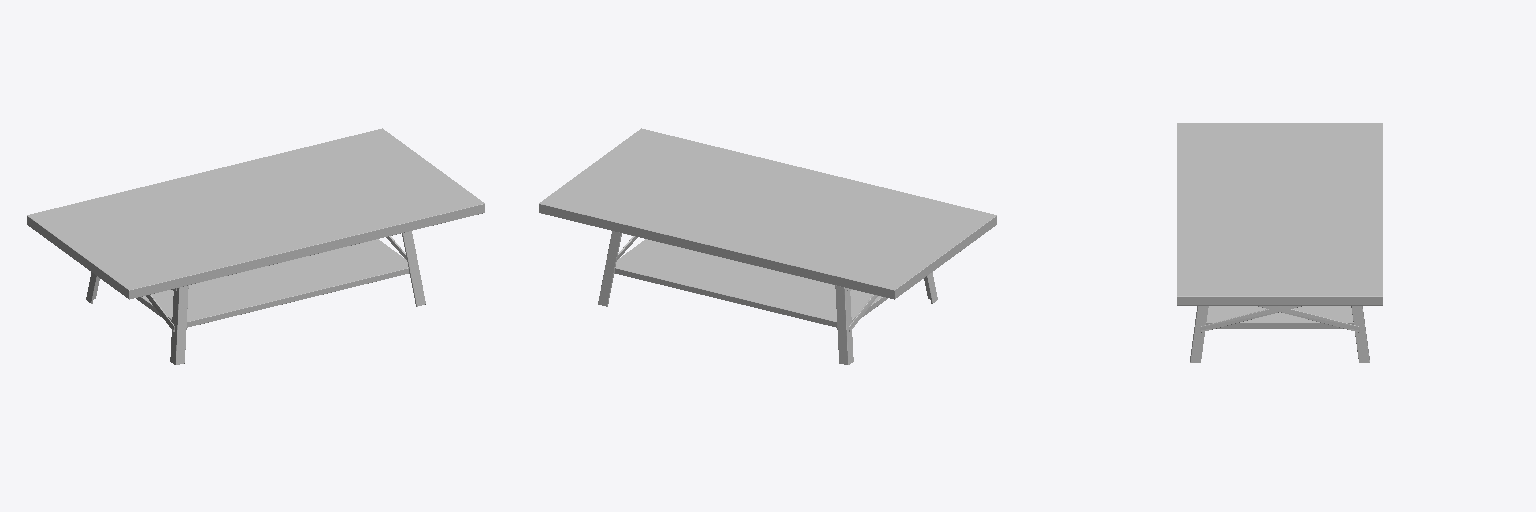
Rendered from CoffeeTable.obj.
The picture shows the model from 3 angles: view 1: azimuth 30°, elevation 25°; view 2: azimuth 150°, elevation 25°; view 3: azimuth 270°, elevation 25°; orthographic projection.
Visible parts, largest first — view 1: Plane.011_Plane.018; view 2: Plane.011_Plane.018; view 3: Plane.011_Plane.018.
Boxes of the visible parts, x1,y1,x2,y2 form: Plane.011_Plane.018: [27, 128, 484, 364]; Plane.011_Plane.018: [539, 128, 996, 364]; Plane.011_Plane.018: [1177, 123, 1382, 362].
Size of the model in its own units: 2 by 0.4999 by 1.